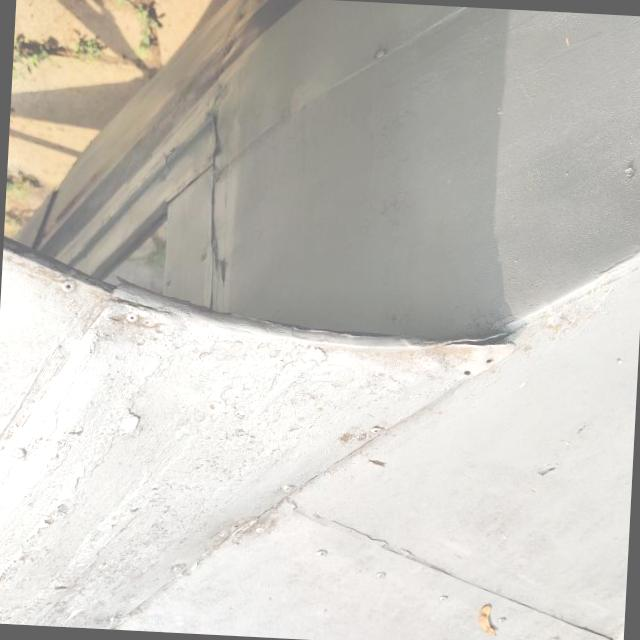crack: (421, 306, 535, 367), (100, 278, 184, 334)
